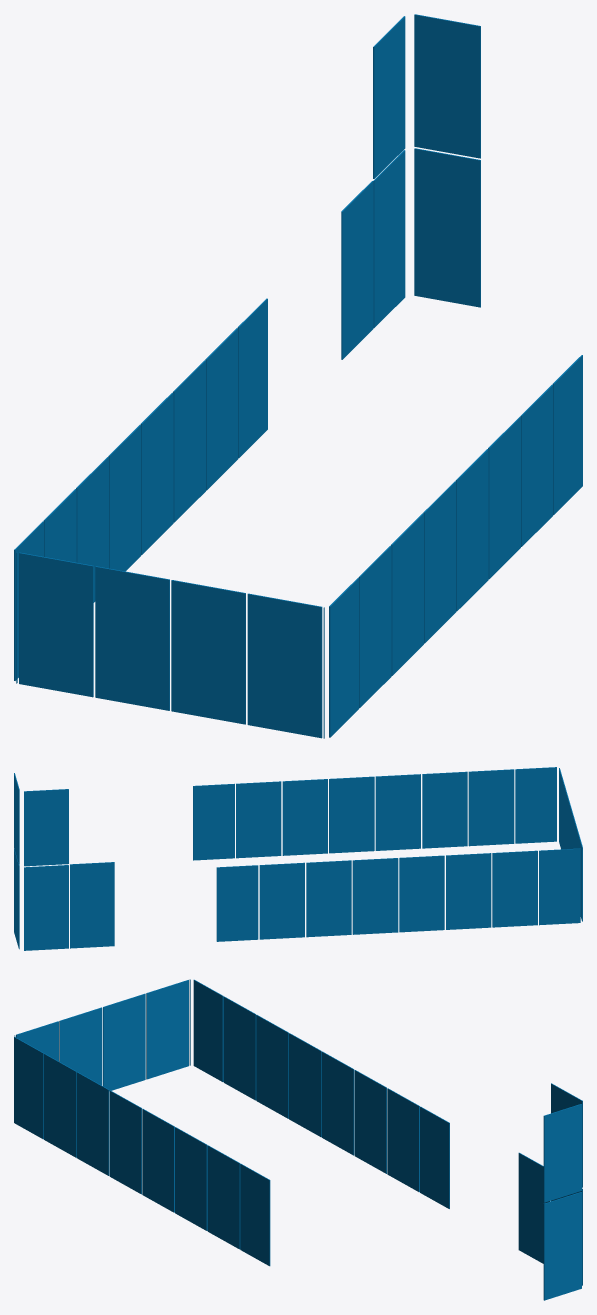
Rendered from rac_basic_sample_project_Level_1_IfcPlate.dae.
The picture shows the model from 3 angles, top to bottom: view 1: azimuth 30°, elevation 25°; view 2: azimuth 150°, elevation 25°; view 3: azimuth 270°, elevation 25°; orthographic projection. The views are drawn at different scales.
Visible parts, largest first — view 1: 2hD3j_DmLBXxhCCy1gOWOp, 3Yxgiuz3TDpeHhosGP5bD7, 2hD3j_DmLBXxhCCy1gOWOl, 2hD3j_DmLBXxhCCy1gOWH_, 2hD3j_DmLBXxhCCy1gOWOj, 3Yxgiuz3TDpeHhosGP5bBB, 1PDnLIM013wvkZO9Lb4$jv, 1PDnLIM013wvkZO9Lb4$Jp, 1PDnLIM013wvkZO9Lb4$Jo, 2hD3j_DmLBXxhCCy1gOWSm, 2hD3j_DmLBXxhCCy1gOWSo, 2hD3j_DmLBXxhCCy1gOWGK (+13 smaller); view 2: 1PDnLIM013wvkZO9Lb4$jv, 1PDnLIM013wvkZO9Lb4$Jp, 2hD3j_DmLBXxhCCy1gOWSw, 2hD3j_DmLBXxhCCy1gOWGK, 2hD3j_DmLBXxhCCy1gOWGM, 2hD3j_DmLBXxhCCy1gOWSm, 2hD3j_DmLBXxhCCy1gOWGI, 2hD3j_DmLBXxhCCy1gOWGQ, 2hD3j_DmLBXxhCCy1gOWSi, 2hD3j_DmLBXxhCCy1gOWSq, 2hD3j_DmLBXxhCCy1gOWGO, 2hD3j_DmLBXxhCCy1gOWSs (+12 smaller); view 3: 3Yxgiuz3TDpeHhosGP5bD7, 2hD3j_DmLBXxhCCy1gOWH_, 2hD3j_DmLBXxhCCy1gOWOl, 3Yxgiuz3TDpeHhosGP5bBB, 2hD3j_DmLBXxhCCy1gOWGI, 2hD3j_DmLBXxhCCy1gOWGK, 2hD3j_DmLBXxhCCy1gOWSi, 2hD3j_DmLBXxhCCy1gOWSq, 2hD3j_DmLBXxhCCy1gOWGO, 2hD3j_DmLBXxhCCy1gOWSs, 2hD3j_DmLBXxhCCy1gOWSm, 2hD3j_DmLBXxhCCy1gOWSw (+12 smaller).
Boxes of the visible parts, box(x1,y1,x2,y2) form: 2hD3j_DmLBXxhCCy1gOWOp: box(247, 593, 322, 738); 3Yxgiuz3TDpeHhosGP5bD7: box(414, 148, 480, 307); 2hD3j_DmLBXxhCCy1gOWOl: box(95, 566, 169, 710); 2hD3j_DmLBXxhCCy1gOWH_: box(19, 552, 93, 697); 2hD3j_DmLBXxhCCy1gOWOj: box(171, 580, 245, 724); 3Yxgiuz3TDpeHhosGP5bBB: box(414, 14, 480, 158); 1PDnLIM013wvkZO9Lb4$jv: box(341, 181, 373, 359); 1PDnLIM013wvkZO9Lb4$Jp: box(373, 150, 405, 327); 1PDnLIM013wvkZO9Lb4$Jo: box(373, 16, 405, 178); 2hD3j_DmLBXxhCCy1gOWSm: box(455, 449, 488, 611); 2hD3j_DmLBXxhCCy1gOWSo: box(488, 417, 520, 579); 2hD3j_DmLBXxhCCy1gOWGK: box(140, 392, 173, 554); 1PDnLIM013wvkZO9Lb4$jv: box(70, 862, 114, 948); 1PDnLIM013wvkZO9Lb4$Jp: box(24, 865, 68, 950); 2hD3j_DmLBXxhCCy1gOWSw: box(468, 769, 514, 846); 2hD3j_DmLBXxhCCy1gOWGK: box(352, 858, 398, 934); 2hD3j_DmLBXxhCCy1gOWGM: box(399, 855, 444, 932); 2hD3j_DmLBXxhCCy1gOWSm: box(329, 776, 374, 853); 2hD3j_DmLBXxhCCy1gOWGI: box(492, 850, 537, 927); 2hD3j_DmLBXxhCCy1gOWGQ: box(306, 860, 351, 937); 2hD3j_DmLBXxhCCy1gOWSi: box(236, 781, 281, 858); 2hD3j_DmLBXxhCCy1gOWSq: box(422, 771, 467, 848); 2hD3j_DmLBXxhCCy1gOWGO: box(259, 862, 304, 939); 2hD3j_DmLBXxhCCy1gOWSs: box(375, 774, 420, 850); 3Yxgiuz3TDpeHhosGP5bD7: box(543, 1192, 581, 1300); 2hD3j_DmLBXxhCCy1gOWH_: box(146, 980, 188, 1079); 2hD3j_DmLBXxhCCy1gOWOl: box(103, 993, 145, 1090); 3Yxgiuz3TDpeHhosGP5bBB: box(543, 1104, 581, 1202); 2hD3j_DmLBXxhCCy1gOWGI: box(223, 996, 256, 1100); 2hD3j_DmLBXxhCCy1gOWGK: box(321, 1051, 354, 1155); 2hD3j_DmLBXxhCCy1gOWSi: box(207, 1145, 240, 1249); 2hD3j_DmLBXxhCCy1gOWSq: box(76, 1072, 109, 1175); 2hD3j_DmLBXxhCCy1gOWGO: box(387, 1088, 419, 1192); 2hD3j_DmLBXxhCCy1gOWSs: box(109, 1090, 141, 1194); 2hD3j_DmLBXxhCCy1gOWSm: box(142, 1108, 174, 1212); 2hD3j_DmLBXxhCCy1gOWSw: box(44, 1053, 76, 1157).
Size of the model in its own units: 15.36 by 15.7 by 5.62.
